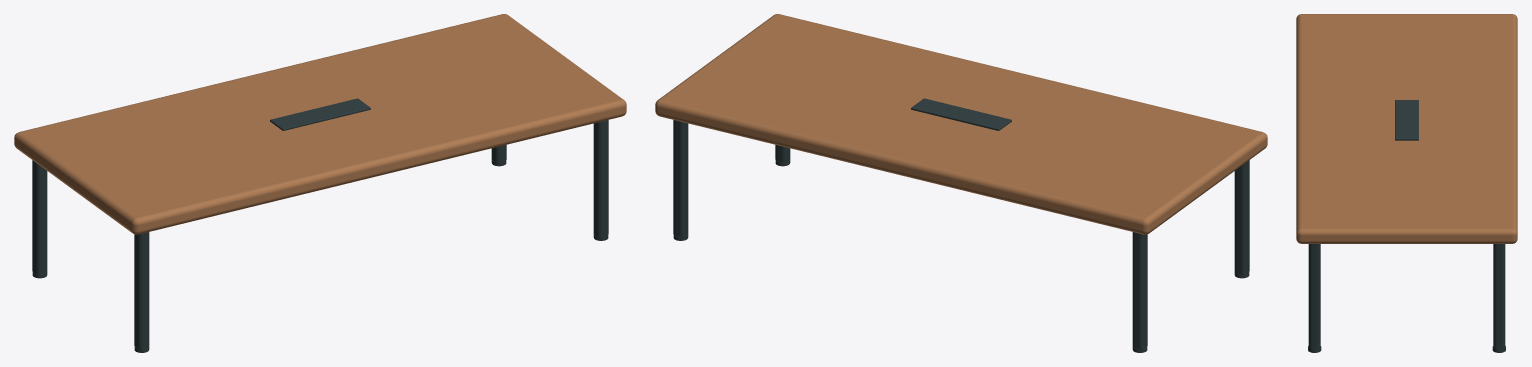
File: meeting-table.glb
The picture shows the model from 3 angles, left to right: view 1: azimuth 30°, elevation 25°; view 2: azimuth 150°, elevation 25°; view 3: azimuth 270°, elevation 25°; orthographic projection. The views are drawn at different scales.
Parts seen in each view (by area): view 1: meeting-table; view 2: meeting-table; view 3: meeting-table.
Part boxes in pixels (left/top/right/bottom): meeting-table: left=14, top=14, right=626, bottom=352; meeting-table: left=655, top=14, right=1267, bottom=352; meeting-table: left=1296, top=14, right=1517, bottom=352.
Size of the model in its own units: 2.8 by 0.773 by 1.2.
